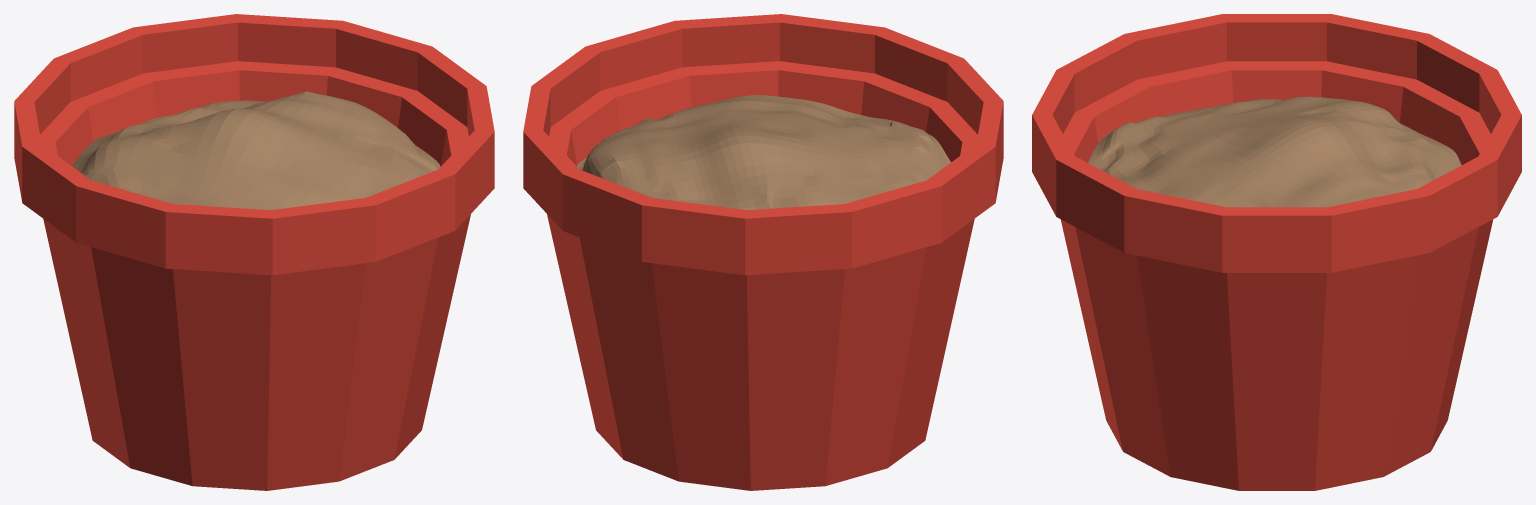
Rendered from Pot.fbx.
3 renders of one model, left to right at view 1: azimuth 30°, elevation 25°; view 2: azimuth 150°, elevation 25°; view 3: azimuth 270°, elevation 25°, orthographic.
Parts seen in each view (by area): view 1: Cylinder, Cylinder.001; view 2: Cylinder, Cylinder.001; view 3: Cylinder, Cylinder.001.
Boxes of the visible parts, x1,y1,x2,y2 form: Cylinder: (14,14,494,490); Cylinder.001: (72,91,440,210); Cylinder: (523,14,1003,490); Cylinder.001: (577,95,950,210); Cylinder: (1032,14,1521,490); Cylinder.001: (1088,96,1461,207).
Size of the model in its own units: 280 by 198 by 287.
